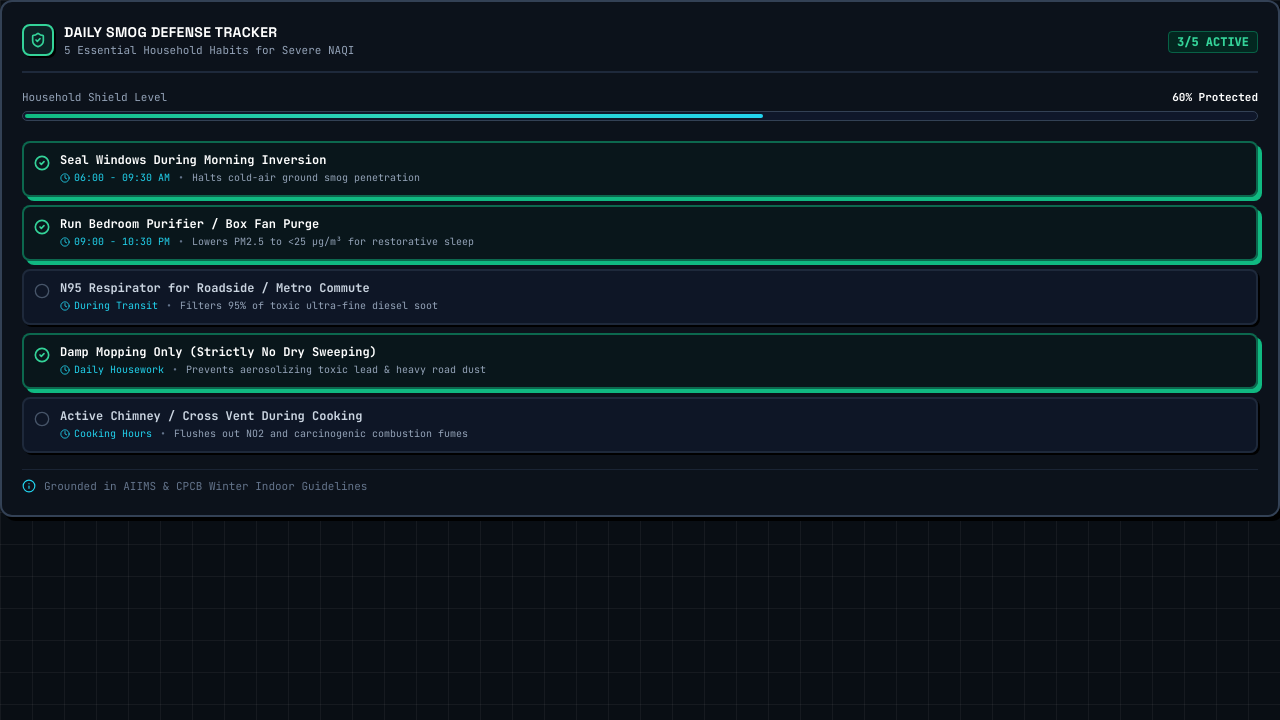
Test case: DailyDefenseChecklist Component (src/components/DailyDefenseChecklist.tsx) › toggles protocol status when clicked and updates active count
Step 1. Click the button "N95 Respirator for Roadside" → [215, 288], box [22, 269, 1258, 325]
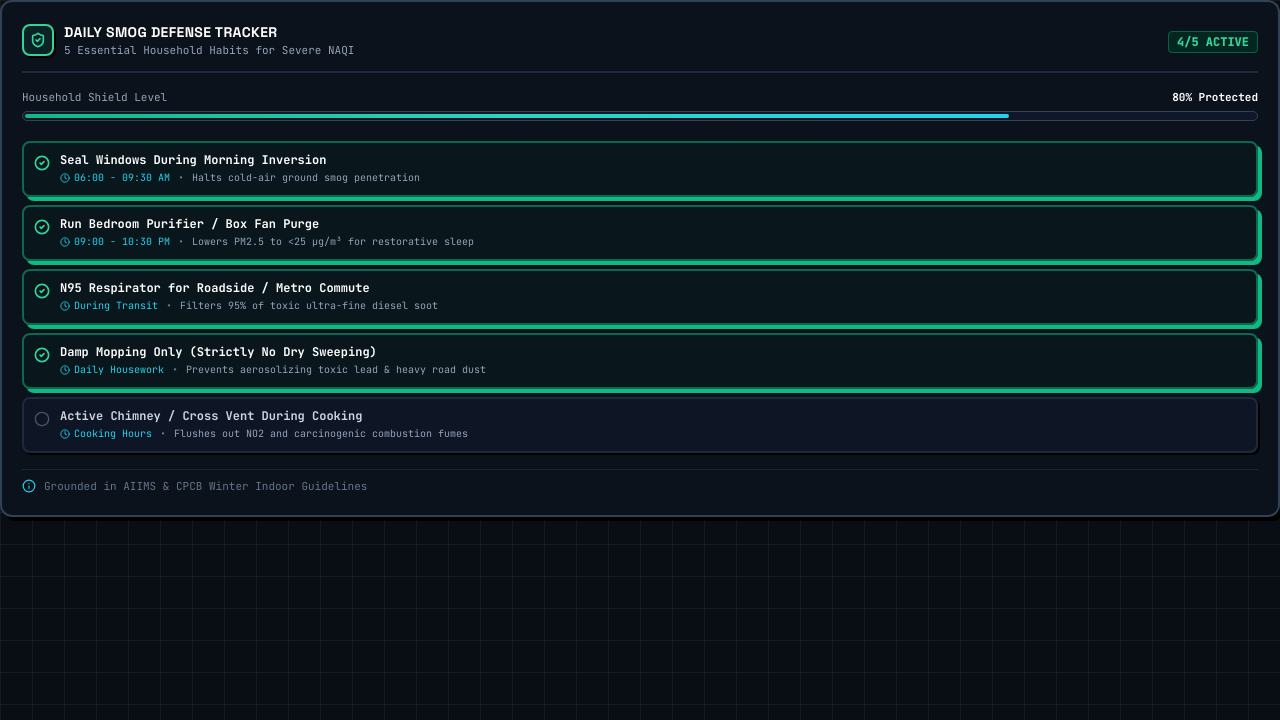
Result: the text "4/5 ACTIVE" is shown at [1168, 31, 1258, 53]
// Click again to toggle off
Step 2. Click the button "N95 Respirator for Roadside" → [215, 288], box [22, 269, 1258, 325]
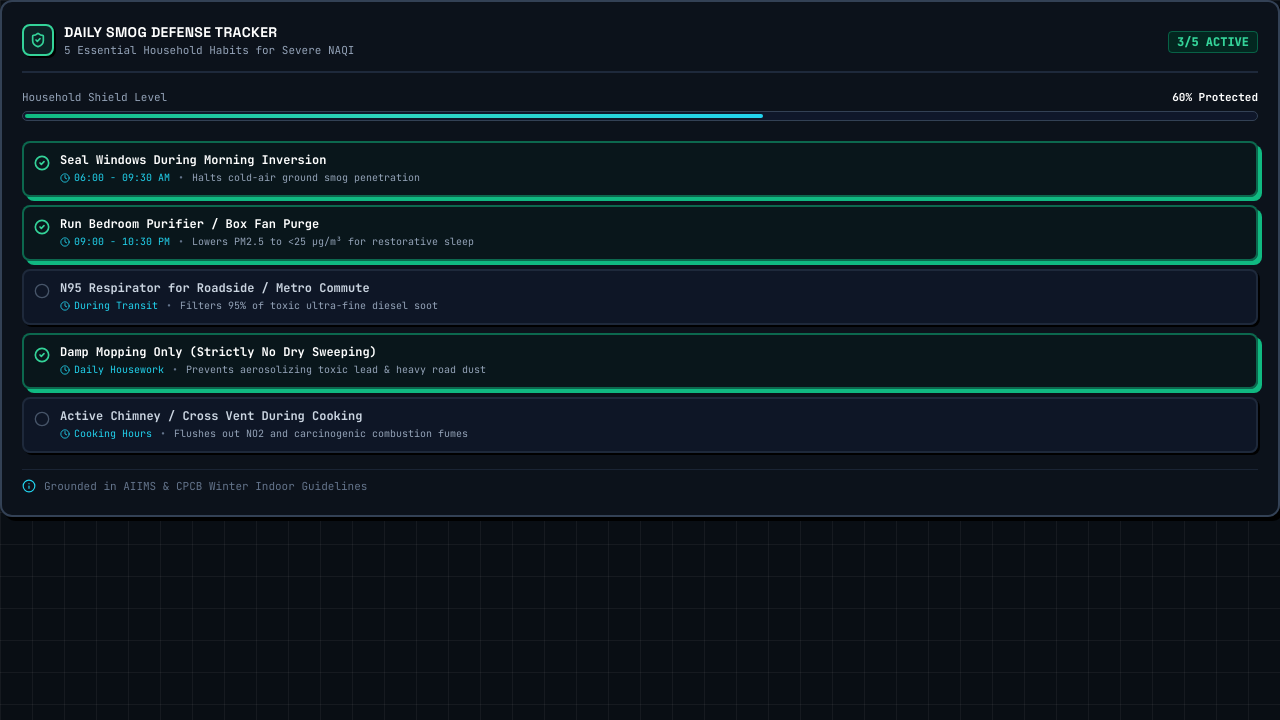
Result: the text "3/5 ACTIVE" is shown at [1168, 31, 1258, 53]
